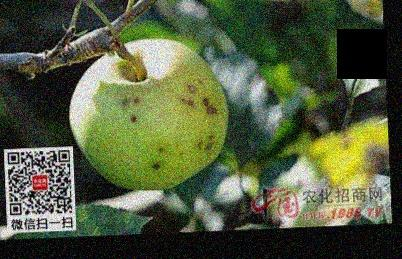rotten apple: (69, 40, 236, 191)
